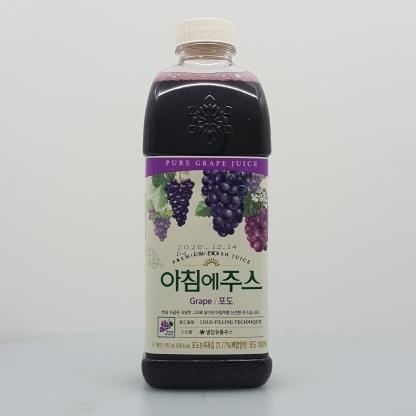------------950ML: (141, 18, 272, 390)
